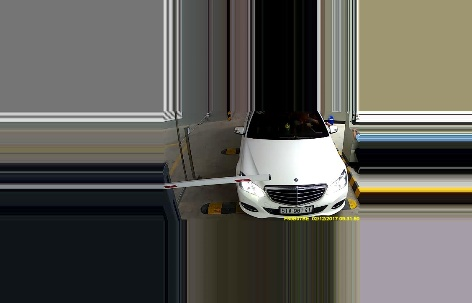plate: (277, 203, 315, 214)
